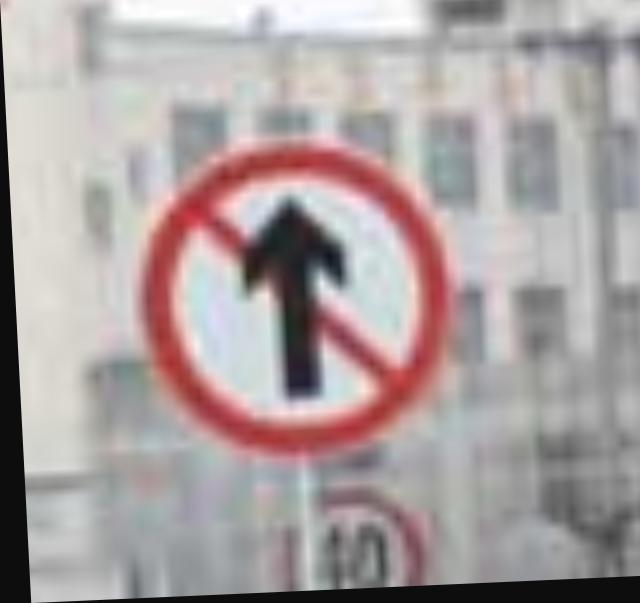not_go_straight: (107, 122, 454, 469)
